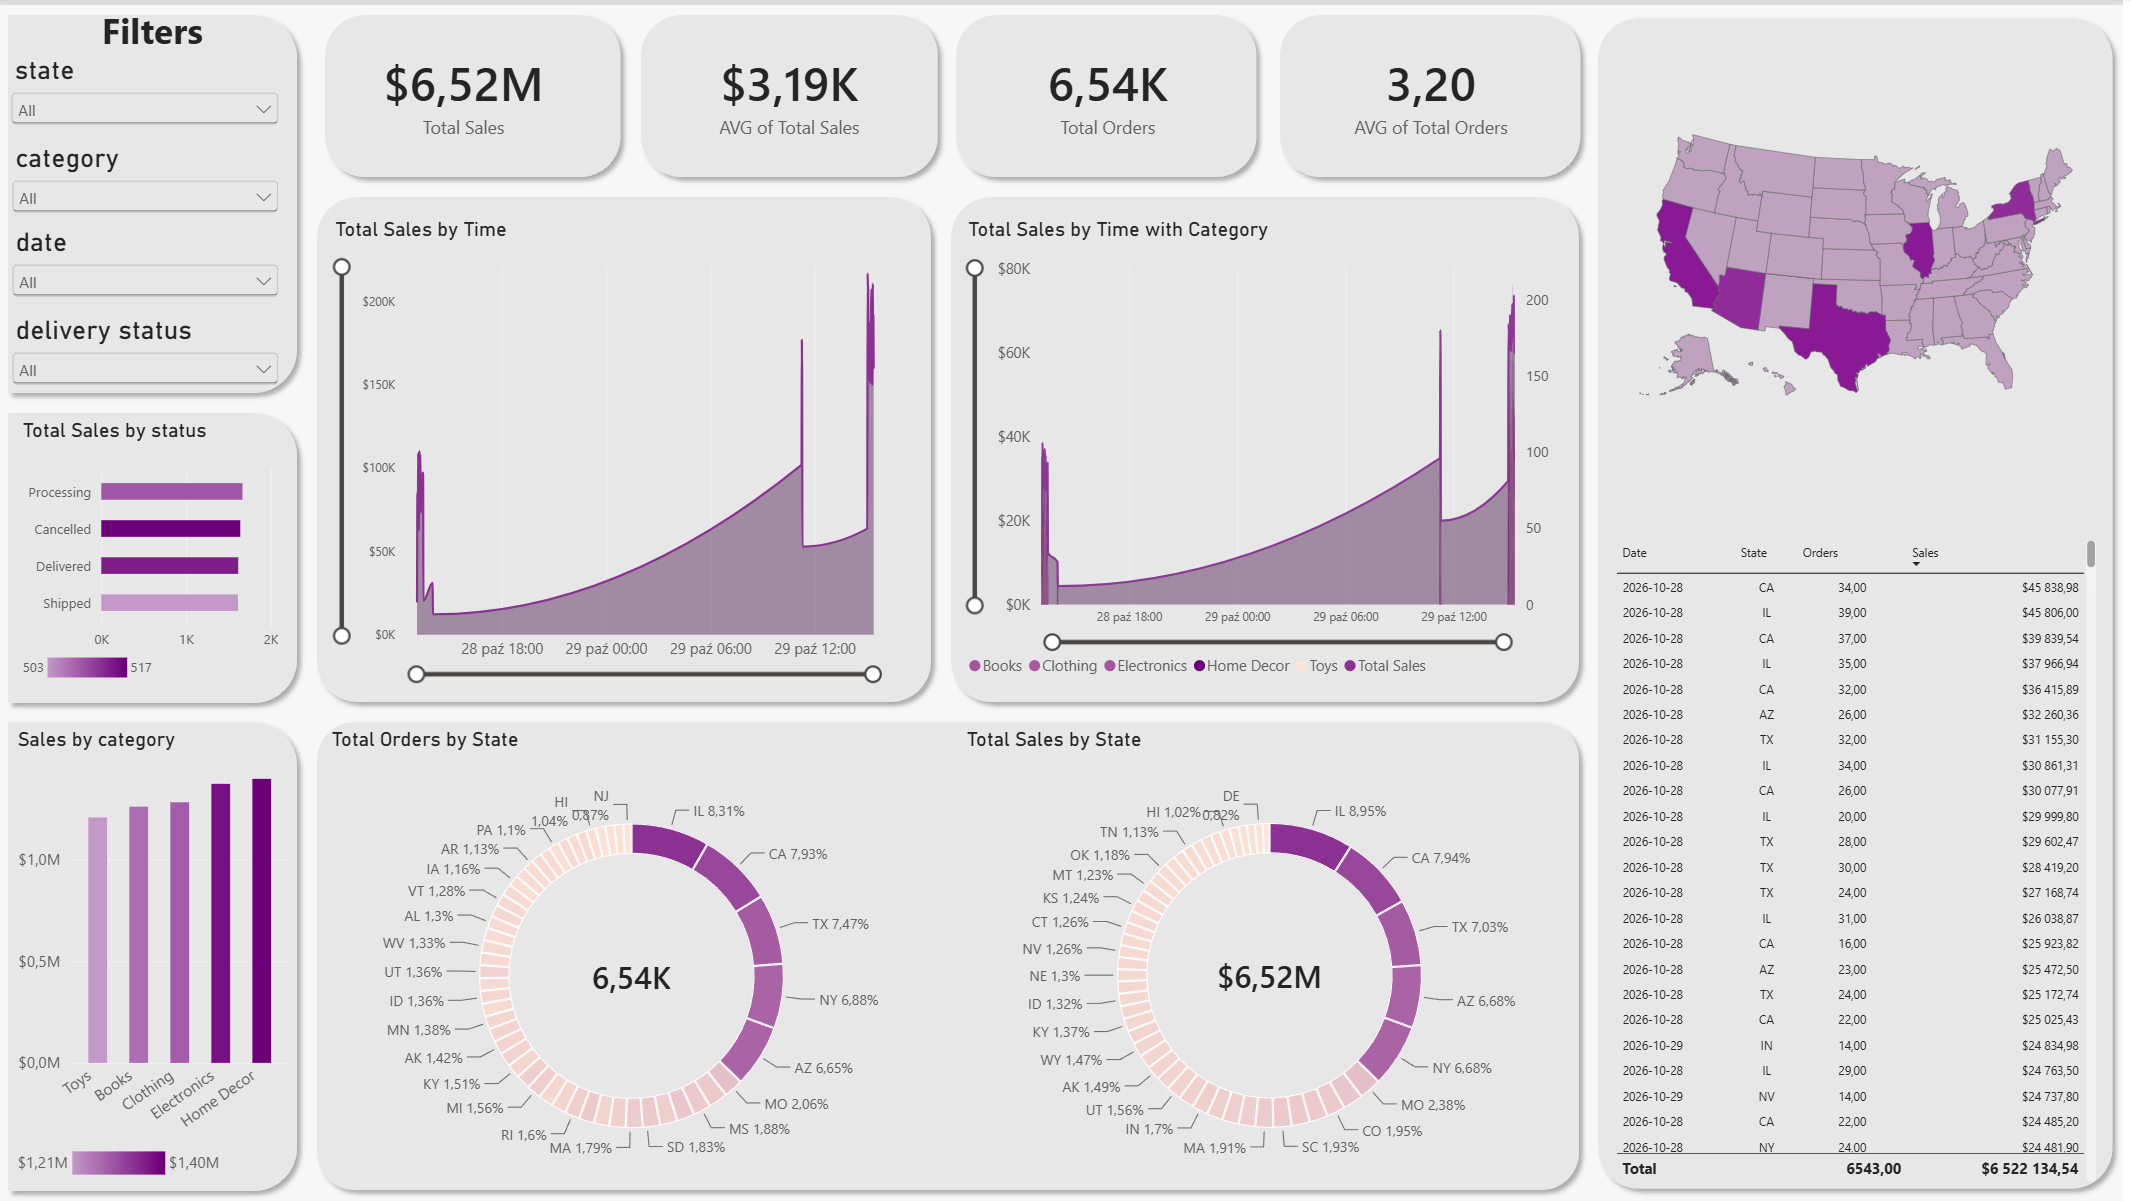

What the dashboard file says about the page in this screenshot:
{"tool":"powerbi","page":{"name":"Strona 1","canvas":[1920,1080],"ordinal":0},"visuals":[{"type":"shape","box":[0,0,279.2,359.6],"z":0},{"type":"group","id":"g1","title":"Grupa 1","box":[279.2,164.4,572.8,474.4],"z":0,"group":"g9"},{"type":"group","id":"g2","title":"Grupa 1","box":[852,164.4,585.5,474.4],"z":0,"group":"g11"},{"type":"group","id":"g3","title":"Grupa 1","box":[279.2,638.8,1158.3,440.9],"z":0,"group":"g10"},{"type":"group","id":"g4","title":"Grupa 1","box":[279.2,0,291.8,164.4],"z":1000},{"type":"shape","box":[286.1,0,285,164.4],"z":1000,"group":"g4"},{"type":"shape","box":[571.9,0,286.2,164.4],"z":1000,"group":"g5"},{"type":"shape","box":[856.5,0,289.3,164.4],"z":1000,"group":"g6"},{"type":"shape","box":[1149.3,0,289.3,164.4],"z":1000,"group":"g7"},{"type":"shape","box":[1437.1,2.9,482.9,1075.8],"z":1000,"group":"g8"},{"type":"shape","box":[279.2,164.4,572.8,474.4],"z":1000,"group":"g1"},{"type":"shape","box":[852,164.4,585.5,474.4],"z":1000,"group":"g2"},{"type":"stackedAreaChart","title":"Total Sales by Time","fields":{"Category":["gold_orders_managed.window_start"],"Y":["Sum(gold_orders_managed.total_sales)"]},"box":[284.7,171.5,563.6,459.3],"z":1000,"group":"g9"},{"type":"lineClusteredColumnComboChart","title":"Total Sales by Time with Category","fields":{"Category":["gold_orders_managed.window_start"],"Series":["gold_orders_managed.category"],"Y":["Sum(gold_orders_managed.total_sales)"],"Y2":["Sum(gold_orders_managed.total_items)"]},"box":[857,171.5,576,459.3],"z":1000,"group":"g11"},{"type":"shape","box":[279.2,638.8,1158.3,440.9],"z":1000,"group":"g3"},{"type":"cardVisual","fields":{"Data":["Sum(gold_orders_managed.total_sales)"]},"box":[279.2,0,283.7,164.4],"z":2000,"group":"g4"},{"type":"group","id":"g5","title":"Grupa 1","box":[571.9,0,286.4,164.4],"z":2000},{"type":"cardVisual","fields":{"Data":["Avg(gold_orders_managed.total_sales)"]},"box":[572.2,0,286.2,164.4],"z":2000,"group":"g5"},{"type":"cardVisual","fields":{"Data":["Sum(gold_orders_managed.total_items)"]},"box":[858.6,0,289.3,164.4],"z":2000,"group":"g6"},{"type":"cardVisual","fields":{"Data":["Avg(gold_orders_managed.total_items)"]},"box":[1149.9,0,289.3,164.4],"z":2000,"group":"g7"},{"type":"group","id":"g6","title":"Grupa 1","box":[856.5,0,291.8,164.4],"z":3000},{"type":"group","id":"g7","title":"Grupa 1","box":[1149.3,0,289.1,164.4],"z":4000},{"type":"group","id":"g8","title":"Grupa 1","box":[1437.1,2.9,482.9,1075.8],"z":5000},{"type":"group","id":"g9","title":"Grupa 2","box":[279.2,164.4,572.8,474.4],"z":6000},{"type":"shapeMap","fields":{"Category":["gold_orders_managed.state"],"Value":["Sum(gold_orders_managed.total_sales)"]},"box":[1445.6,2.7,466.2,466.2],"z":7000},{"type":"group","id":"g10","title":"Grupa 2","box":[279.2,638.8,1158.3,440.9],"z":8000},{"type":"tableEx","fields":{"Values":["gold_orders_managed.window_start","gold_orders_managed.state","Sum(gold_orders_managed.total_items)","Sum(gold_orders_managed.total_sales)"]},"box":[1445.6,468.9,466.2,609.9],"z":9000},{"type":"donutChart","title":"Total Sales by State","fields":{"Category":["gold_orders_managed.state"],"Y":["Sum(gold_orders_managed.total_sales)"]},"box":[859.3,638.8,579.2,440.9],"z":10000},{"type":"donutChart","title":"Total Orders by State","fields":{"Category":["gold_orders_managed.state"],"Y":["Sum(gold_orders_managed.total_items)"]},"box":[285.5,638.8,573.7,441.8],"z":11000},{"type":"slicer","fields":{"Values":["gold_orders_managed.state"]},"box":[7.2,45.2,251.2,79.5],"z":12000},{"type":"textbox","box":[8.1,0,262.9,45.2],"z":13000},{"type":"group","id":"g11","title":"Grupa 2","box":[852,164.4,585.5,474.4],"z":14000},{"type":"slicer","fields":{"Values":["gold_orders_managed.category"]},"box":[8.1,124.7,250.3,79.5],"z":15000},{"type":"shape","box":[0,638.8,279.2,441.8],"z":16000},{"type":"slicer","fields":{"Values":["gold_orders_managed.window_start"]},"box":[8.1,200.6,250.3,79.5],"z":17000},{"type":"columnChart","title":"Sales by category","fields":{"Category":["gold_orders_managed.category"],"Y":["Sum(gold_orders_managed.total_sales)"]},"box":[1.8,638.8,277.4,440],"z":18000},{"type":"shape","box":[0,359.6,279.2,280.1],"z":19000},{"type":"barChart","title":"Total Sales by status","fields":{"Category":["gold_orders_managed.delivery_status"],"Y":["Sum(gold_orders_managed.total_items)"]},"box":[6.3,359.6,262.9,271.1],"z":20000},{"type":"slicer","fields":{"Values":["gold_orders_managed.delivery_status"]},"box":[8.1,280.1,250.3,79.5],"z":21000}]}

Visuals, with their boxes in screenshot pixels (x1, y1, x2, y2), scaled from the page's 1920x1080 canvas onto the 2131x1201 screenshot:
shape: (left=0, top=0, right=310, bottom=400)
"Grupa 1" group: (left=310, top=183, right=946, bottom=710)
"Grupa 1" group: (left=946, top=183, right=1595, bottom=710)
"Grupa 1" group: (left=310, top=710, right=1595, bottom=1200)
"Grupa 1" group: (left=310, top=0, right=634, bottom=183)
shape: (left=318, top=0, right=634, bottom=183)
shape: (left=635, top=0, right=952, bottom=183)
shape: (left=951, top=0, right=1272, bottom=183)
shape: (left=1276, top=0, right=1597, bottom=183)
shape: (left=1595, top=3, right=2130, bottom=1200)
shape: (left=310, top=183, right=946, bottom=710)
shape: (left=946, top=183, right=1595, bottom=710)
"Total Sales by Time" stackedAreaChart: (left=316, top=191, right=942, bottom=701)
"Total Sales by Time with Category" lineClusteredColumnComboChart: (left=951, top=191, right=1590, bottom=701)
shape: (left=310, top=710, right=1595, bottom=1200)
cardVisual - Sum(gold_orders_managed.total_sales): (left=310, top=0, right=625, bottom=183)
"Grupa 1" group: (left=635, top=0, right=953, bottom=183)
cardVisual - Avg(gold_orders_managed.total_sales): (left=635, top=0, right=953, bottom=183)
cardVisual - Sum(gold_orders_managed.total_items): (left=953, top=0, right=1274, bottom=183)
cardVisual - Avg(gold_orders_managed.total_items): (left=1276, top=0, right=1597, bottom=183)
"Grupa 1" group: (left=951, top=0, right=1274, bottom=183)
"Grupa 1" group: (left=1276, top=0, right=1596, bottom=183)
"Grupa 1" group: (left=1595, top=3, right=2130, bottom=1200)
"Grupa 2" group: (left=310, top=183, right=946, bottom=710)
shapeMap - gold_orders_managed.state x Sum(gold_orders_managed.total_sales): (left=1604, top=3, right=2122, bottom=521)
"Grupa 2" group: (left=310, top=710, right=1595, bottom=1200)
tableEx - gold_orders_managed.window_start x gold_orders_managed.state: (left=1604, top=521, right=2122, bottom=1200)
"Total Sales by State" donutChart: (left=954, top=710, right=1597, bottom=1200)
"Total Orders by State" donutChart: (left=317, top=710, right=954, bottom=1200)
slicer - gold_orders_managed.state: (left=8, top=50, right=287, bottom=139)
textbox: (left=9, top=0, right=301, bottom=50)
"Grupa 2" group: (left=946, top=183, right=1595, bottom=710)
slicer - gold_orders_managed.category: (left=9, top=139, right=287, bottom=227)
shape: (left=0, top=710, right=310, bottom=1200)
slicer - gold_orders_managed.window_start: (left=9, top=223, right=287, bottom=311)
"Sales by category" columnChart: (left=2, top=710, right=310, bottom=1200)
shape: (left=0, top=400, right=310, bottom=711)
"Total Sales by status" barChart: (left=7, top=400, right=299, bottom=701)
slicer - gold_orders_managed.delivery_status: (left=9, top=311, right=287, bottom=400)
